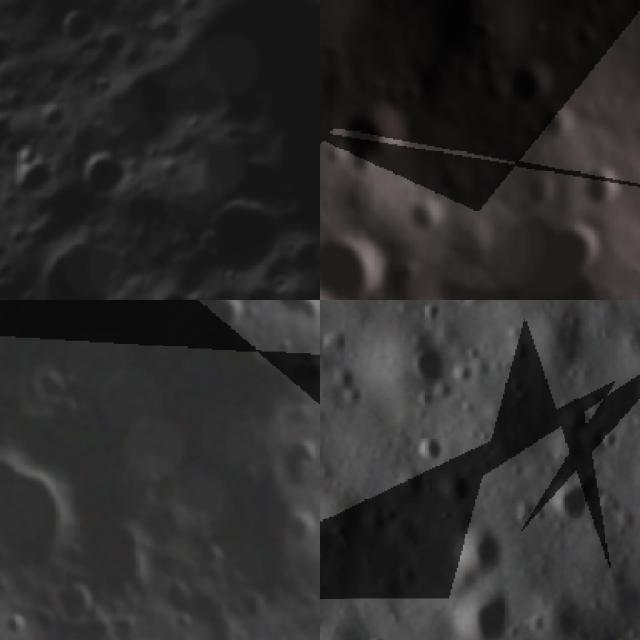crater: (445, 209, 614, 300), (0, 442, 89, 585), (26, 216, 138, 300), (341, 98, 419, 172), (320, 227, 394, 300), (444, 583, 530, 640), (546, 467, 612, 535), (452, 520, 512, 589), (74, 144, 137, 204), (0, 149, 56, 212), (504, 54, 559, 110), (571, 158, 627, 212), (552, 219, 606, 274), (408, 343, 456, 397), (405, 433, 452, 479), (58, 585, 102, 631), (378, 258, 425, 300), (276, 510, 320, 554), (538, 108, 580, 150), (520, 176, 557, 214), (566, 16, 603, 54), (27, 368, 72, 399), (287, 350, 320, 392), (234, 588, 274, 622), (408, 207, 450, 239), (165, 578, 197, 619), (289, 437, 320, 477), (270, 300, 320, 324), (48, 397, 88, 425), (472, 55, 506, 83), (468, 16, 495, 50), (3, 608, 30, 640), (204, 544, 232, 572), (190, 504, 216, 532), (0, 25, 14, 76), (320, 75, 329, 131)
